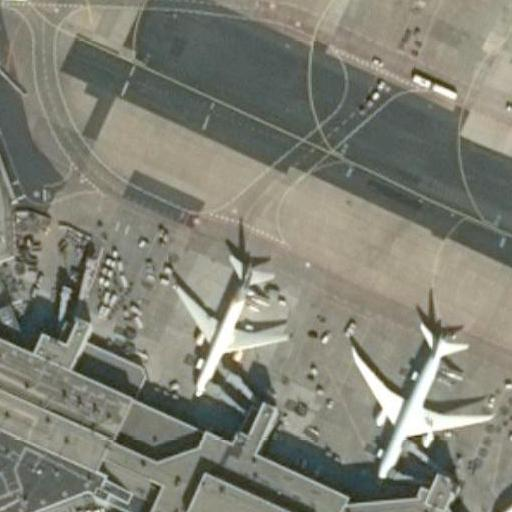Aircraft: (342, 309, 491, 482), (346, 312, 492, 480), (161, 245, 287, 396), (165, 249, 288, 398), (487, 390, 512, 512), (492, 382, 512, 512)
